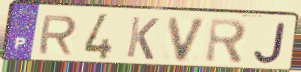4: (82, 12, 116, 62)
J: (252, 21, 289, 66)
K: (124, 15, 161, 62)
R: (203, 17, 249, 66), (36, 14, 79, 57)
V: (166, 16, 211, 64)
